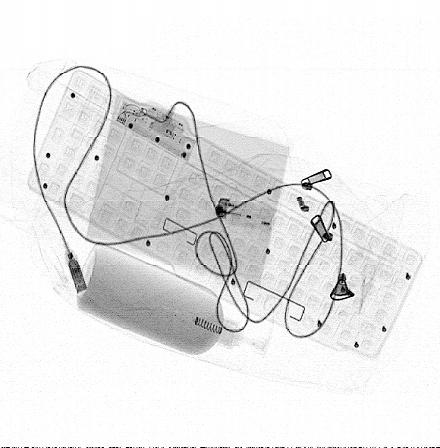Lighter: (214, 198, 274, 231)
